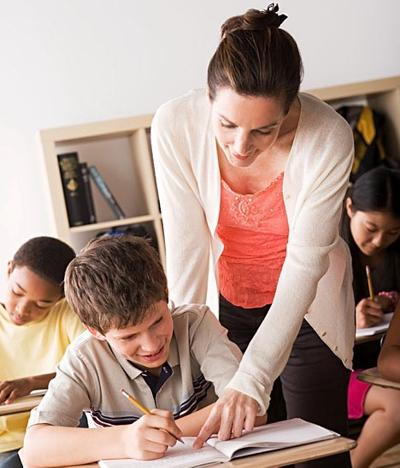person: (20, 235, 268, 468)
